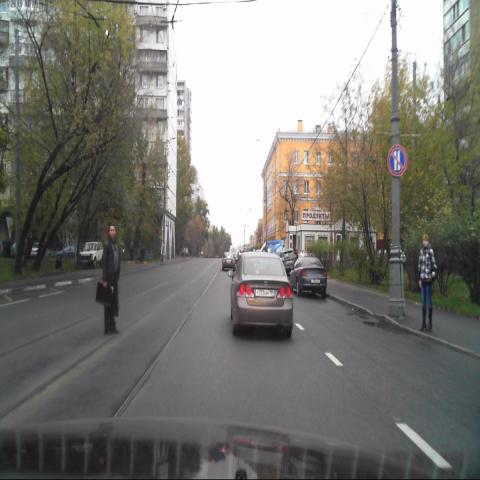3_30: (388, 145, 407, 176)
